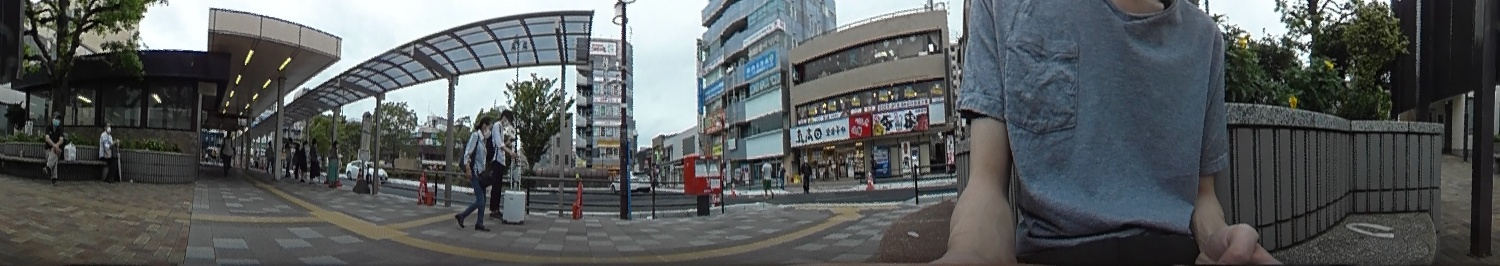difficult_person: (324, 141, 342, 186), (797, 153, 813, 193), (219, 130, 234, 172), (309, 133, 320, 182), (761, 159, 775, 196), (279, 139, 291, 172), (262, 140, 274, 168), (868, 153, 879, 182), (301, 138, 309, 176), (777, 163, 786, 187), (740, 168, 751, 185)
person: (484, 105, 520, 215), (462, 118, 487, 231), (42, 113, 66, 179), (94, 120, 118, 180)
